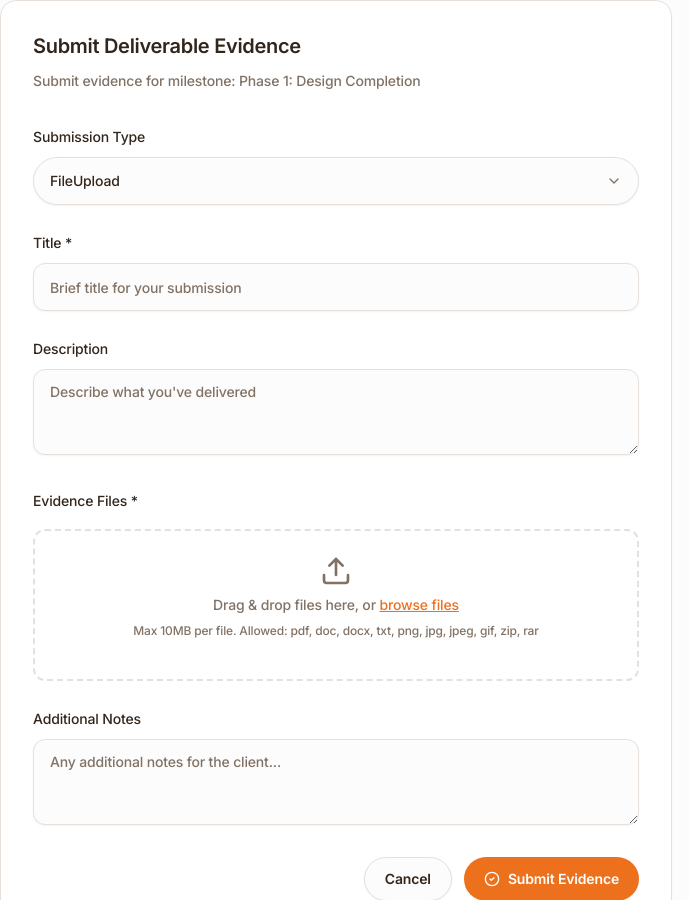
Test: EvidenceUpload › Submission Type Changes › should change to Link submission type
This screenshot has width=689, height=900.
Click the dropdown: x=85, y=180 33,157 -> 639,205
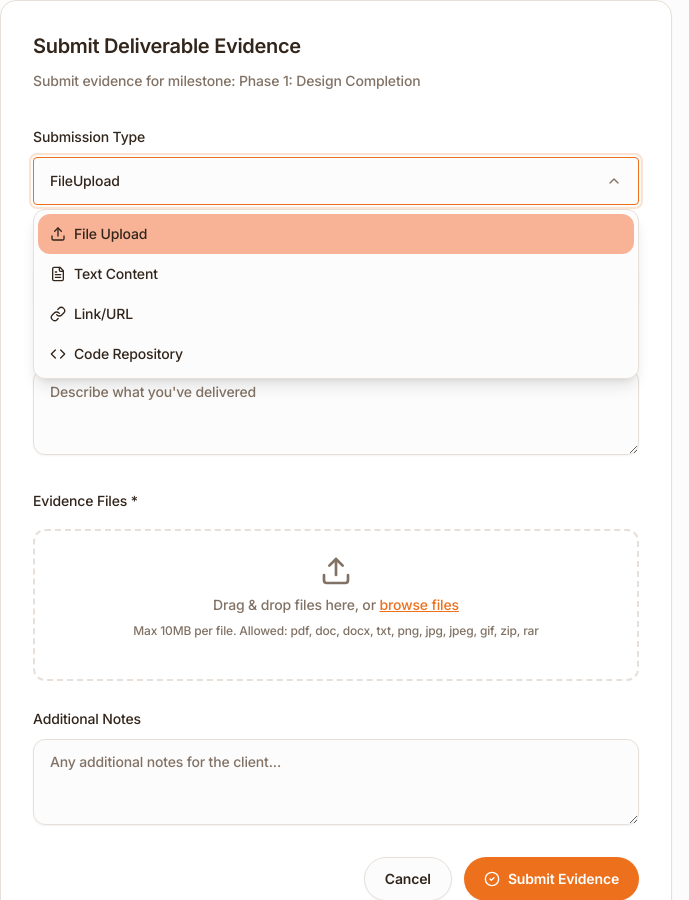
Click the option "Link/URL": x=92, y=314 50,305 -> 133,322
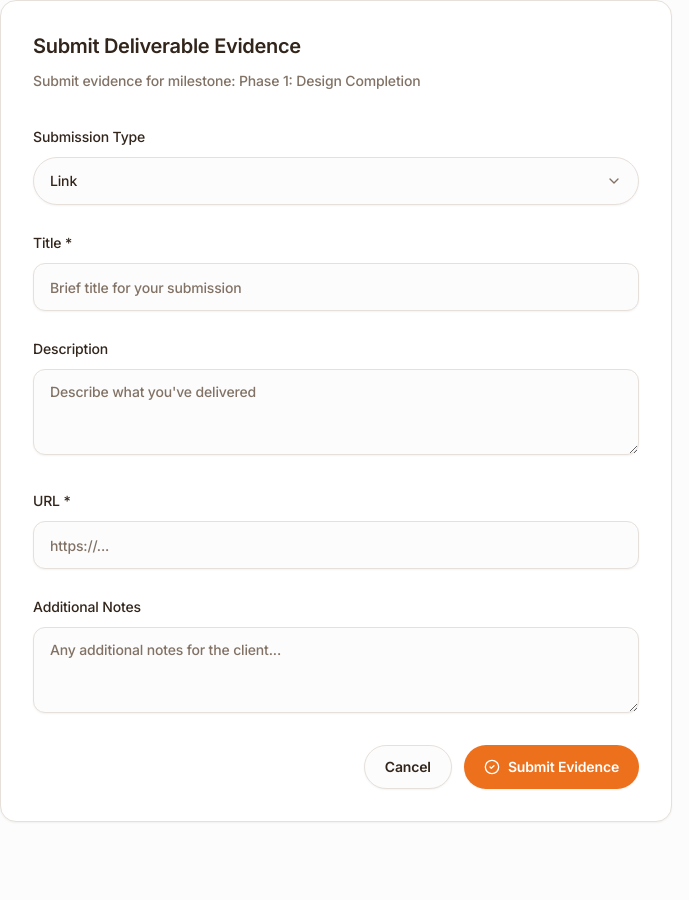
Now the field labelled "URL *" is shown, box 33,521 -> 639,569
